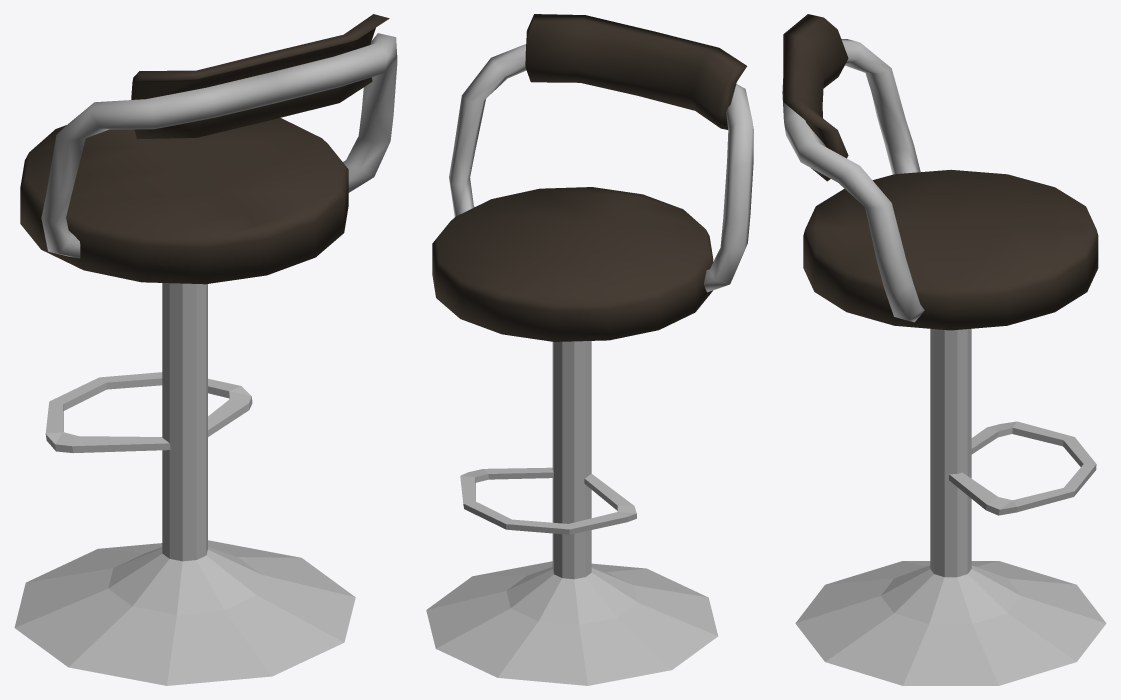
The model's file is Chair5.fbx.
3 views of the same model, side by side, from view 1: azimuth 30°, elevation 25°; view 2: azimuth 150°, elevation 25°; view 3: azimuth 270°, elevation 25° (orthographic). The views are drawn at different scales.
Parts seen in each view (by area): view 1: Chair5; view 2: Chair5; view 3: Chair5.
Part boxes in pixels (x1,y1,x2,y2): Chair5: (14, 14, 397, 685); Chair5: (426, 14, 753, 685); Chair5: (782, 14, 1106, 685).
Size of the model in its own units: 467 by 425 by 805.
